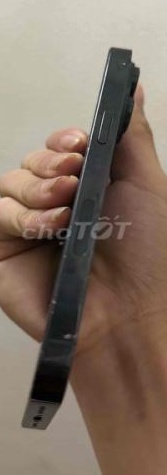scratch: (57, 225, 95, 264), (58, 324, 96, 350), (48, 291, 71, 321), (121, 51, 131, 77)
